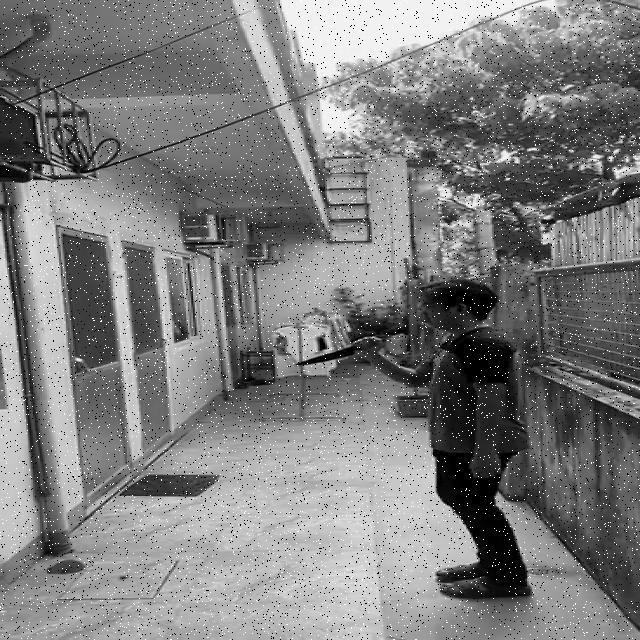knife: (298, 338, 384, 366)
non-violence: (294, 277, 530, 598)
